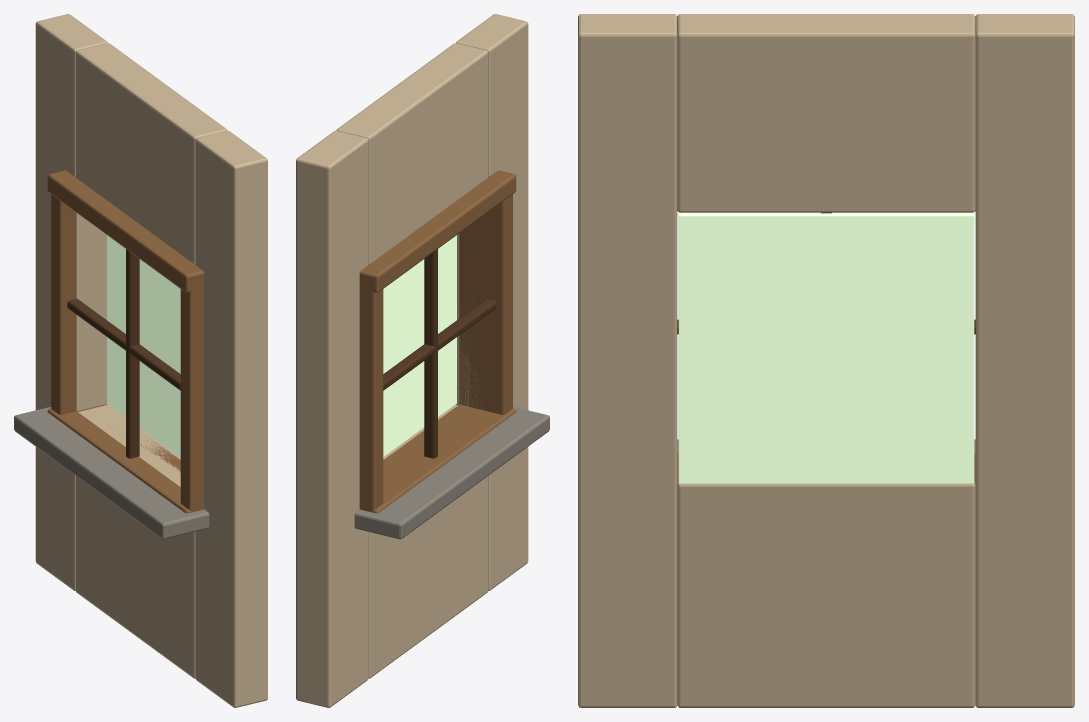
File: SM_HH_Art_WindowWall2m.fbx
3 renders of one model, left to right at view 1: azimuth 30°, elevation 25°; view 2: azimuth 150°, elevation 25°; view 3: azimuth 270°, elevation 25°, orthographic. The views are drawn at different scales.
Visible parts, largest first — view 1: HH_Art_WindowWall2m; view 2: HH_Art_WindowWall2m; view 3: HH_Art_WindowWall2m.
Part boxes in pixels (x1,y1,x2,y2): HH_Art_WindowWall2m: (14, 14, 267, 707); HH_Art_WindowWall2m: (296, 14, 549, 707); HH_Art_WindowWall2m: (578, 14, 1074, 707).
Bounding box in the file's own units: 2 × 0.4775 × 3.
